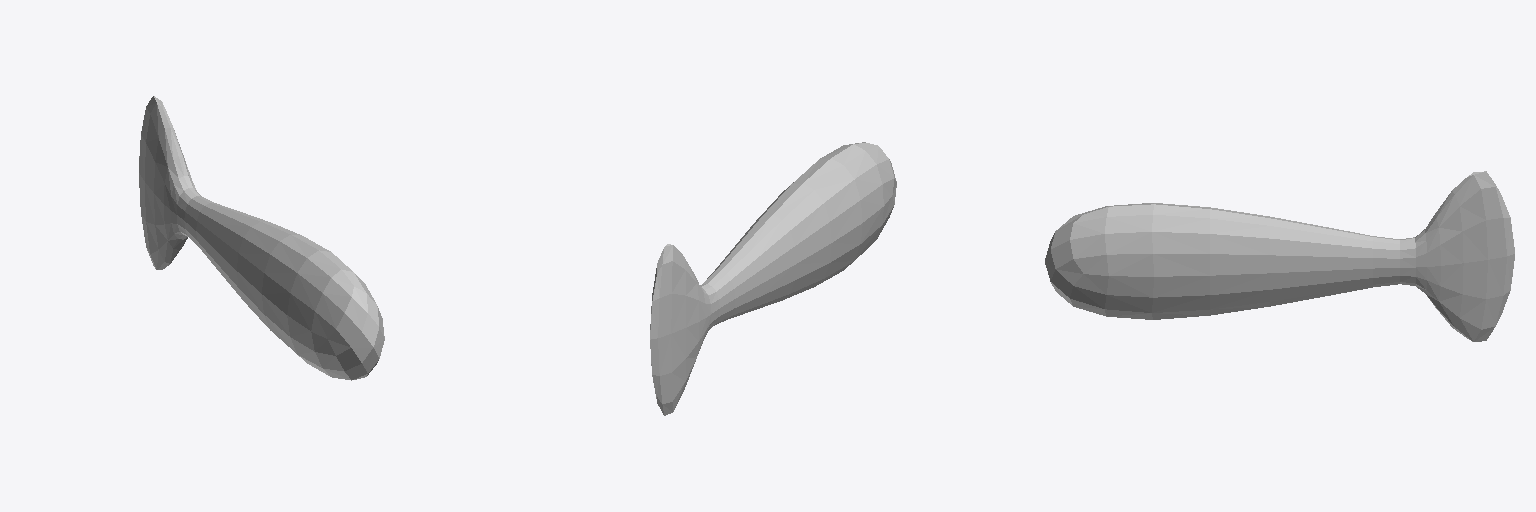
The model's file is Fish.obj.
3 renders of one model, left to right at view 1: azimuth 30°, elevation 25°; view 2: azimuth 150°, elevation 25°; view 3: azimuth 270°, elevation 25°, orthographic.
Parts seen in each view (by area): view 1: Cube; view 2: Cube; view 3: Cube.
Boxes of the visible parts, <box> form: Cube: <box>139,96,384,380</box>; Cube: <box>650,142,896,415</box>; Cube: <box>1045,171,1514,341</box>.
Size of the model in its own units: 0.0708 by 0.1807 by 0.4544.